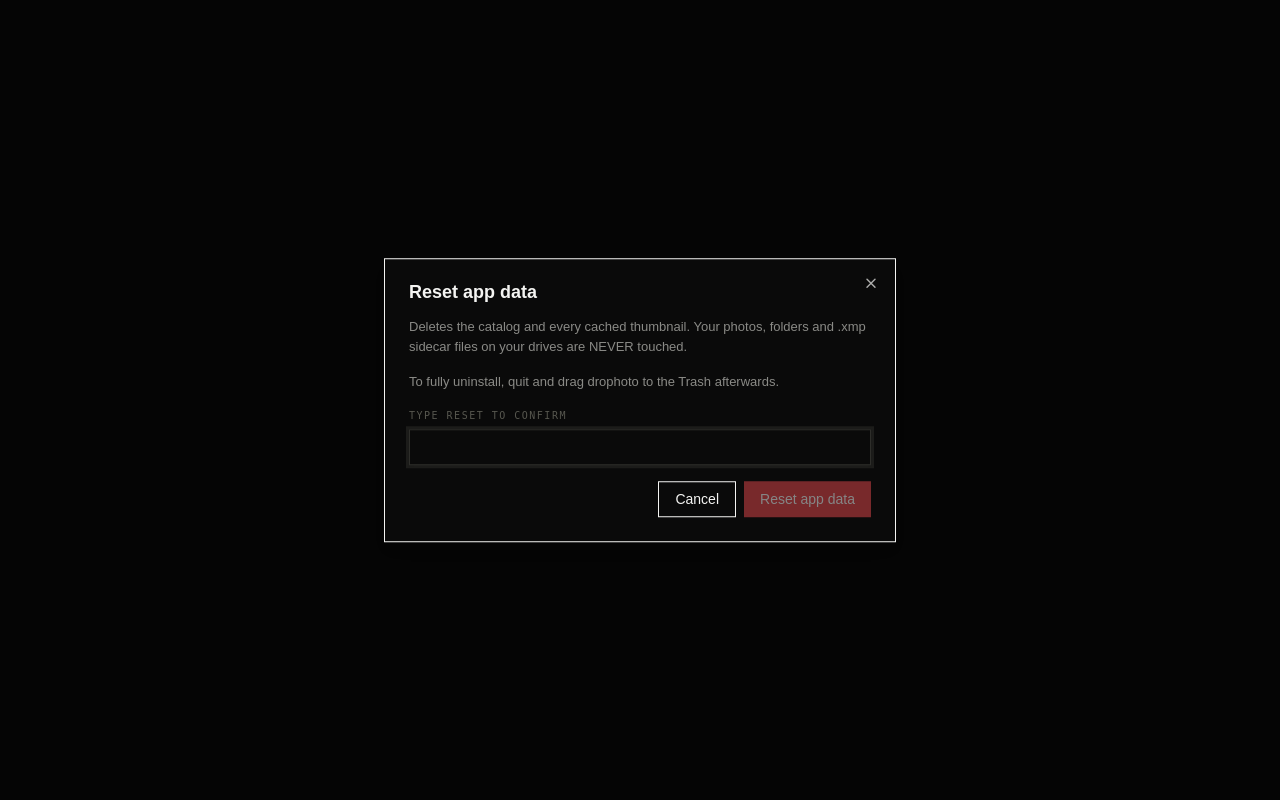
Test case: keeps the confirm button disabled until RESET is typed exactly
The image size is (1280, 800).
Expected: the button "Reset app data" is disabled, [744,481,871,517]
Type "reset" into the field labelled "TYPE RESET TO CONFIRM".
click(640, 447); type("reset")  # box [409,429,871,465]
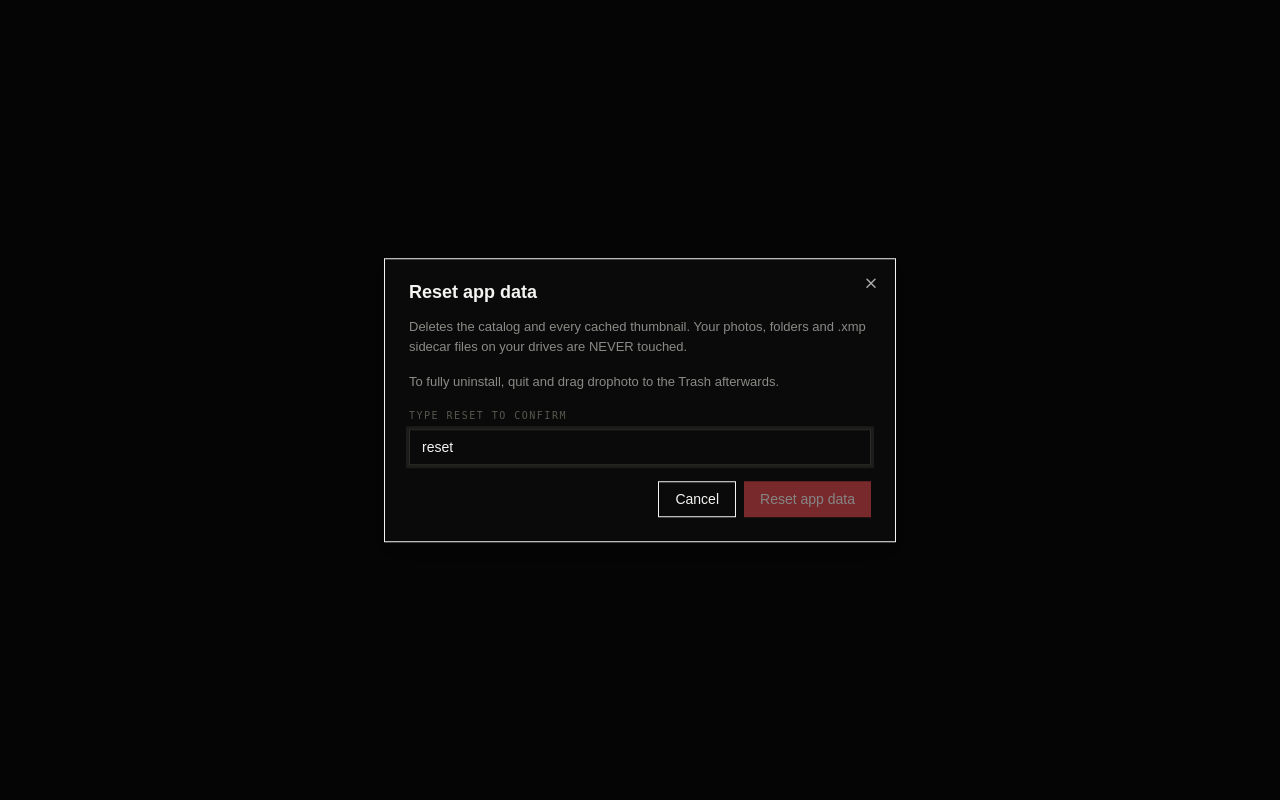
Expected: the button "Reset app data" is disabled, [744,481,871,517]
Replace the text in the field labelled "TYPE RESET TO CONFIRM" with "RESET data" at [640, 447], box [409,429,871,465]
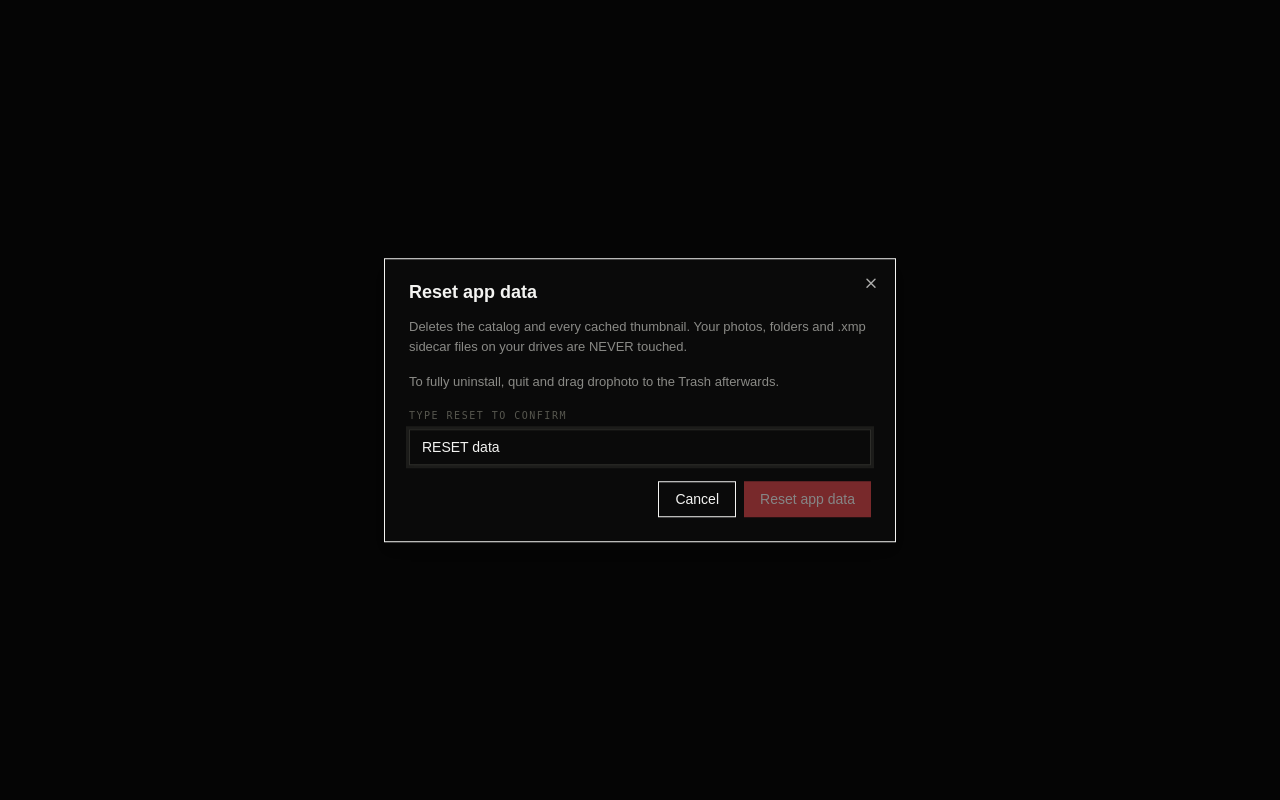
Expected: the button "Reset app data" is disabled, [744,481,871,517]
Replace the text in the field labelled "TYPE RESET TO CONFIRM" with "RESET" at [640, 447], box [409,429,871,465]
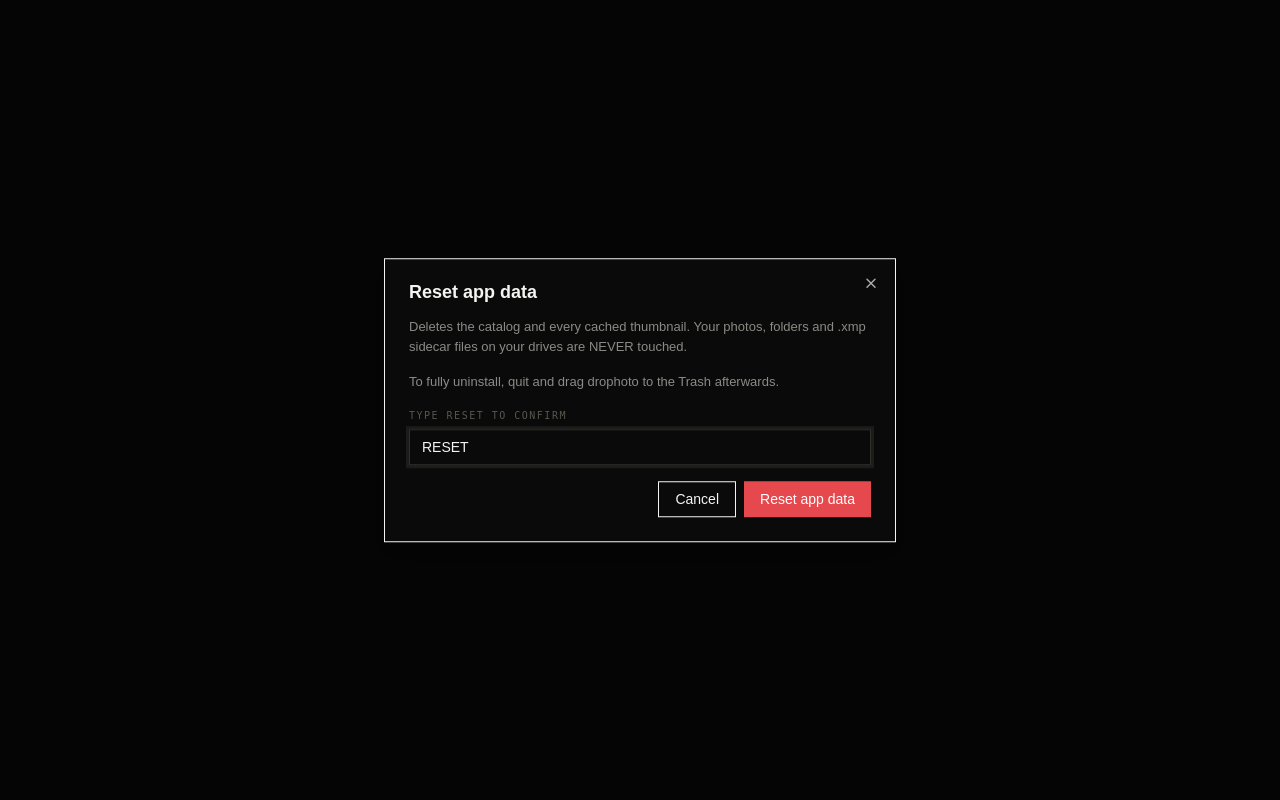
Result: the button "Reset app data" is enabled at [744,481,871,517]
